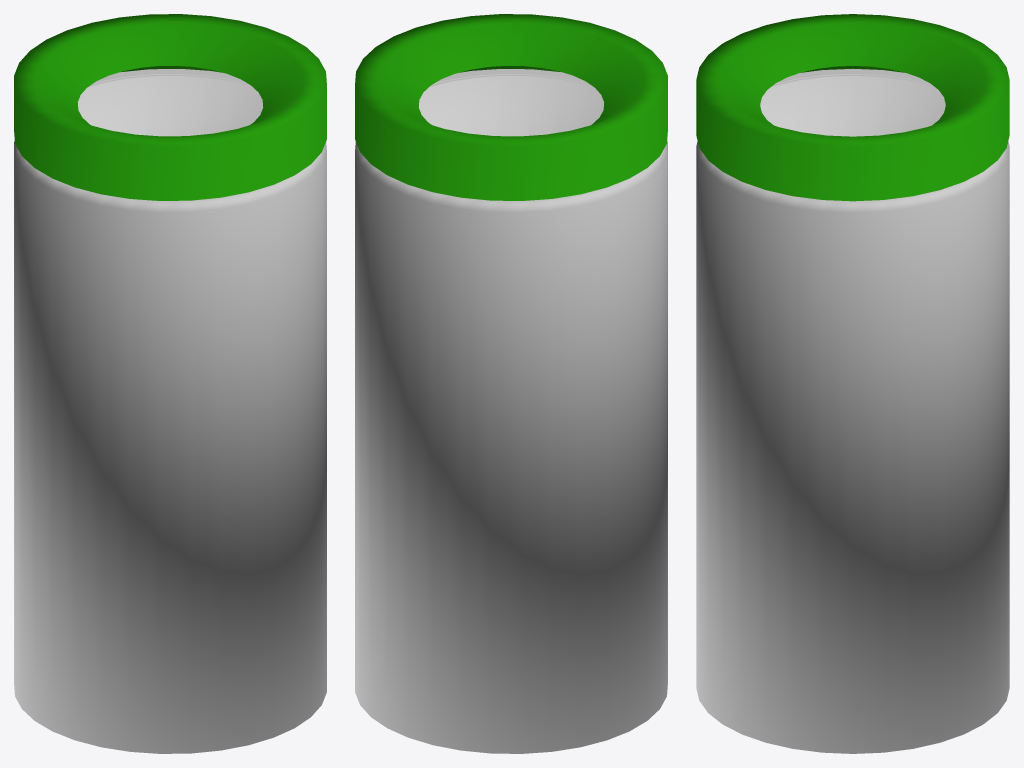
File: lixeira vidro.fbx
3 renders of one model, left to right at view 1: azimuth 30°, elevation 25°; view 2: azimuth 150°, elevation 25°; view 3: azimuth 270°, elevation 25°, orthographic.
Parts seen in each view (by area): view 1: Cylinder; view 2: Cylinder; view 3: Cylinder.
Boxes of the visible parts, x1,y1,x2,y2 form: Cylinder: (14, 14, 326, 753); Cylinder: (355, 14, 667, 753); Cylinder: (696, 14, 1009, 753).
Size of the model in its own units: 200 by 428 by 200.
